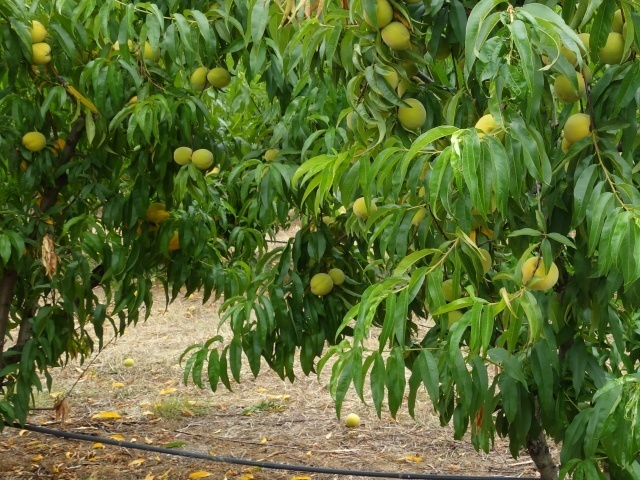peach: (517, 252, 560, 295), (560, 110, 600, 152), (396, 97, 431, 137), (467, 109, 505, 144), (379, 18, 414, 54), (553, 70, 589, 105), (594, 29, 628, 65), (25, 37, 56, 69), (23, 17, 51, 47), (306, 271, 334, 301), (351, 193, 380, 221), (203, 64, 233, 91), (170, 142, 196, 172), (190, 145, 218, 172), (20, 130, 50, 154), (143, 200, 169, 227), (436, 277, 463, 303), (188, 64, 212, 91), (472, 248, 494, 275), (141, 40, 164, 65), (325, 264, 348, 287), (261, 145, 282, 165)
